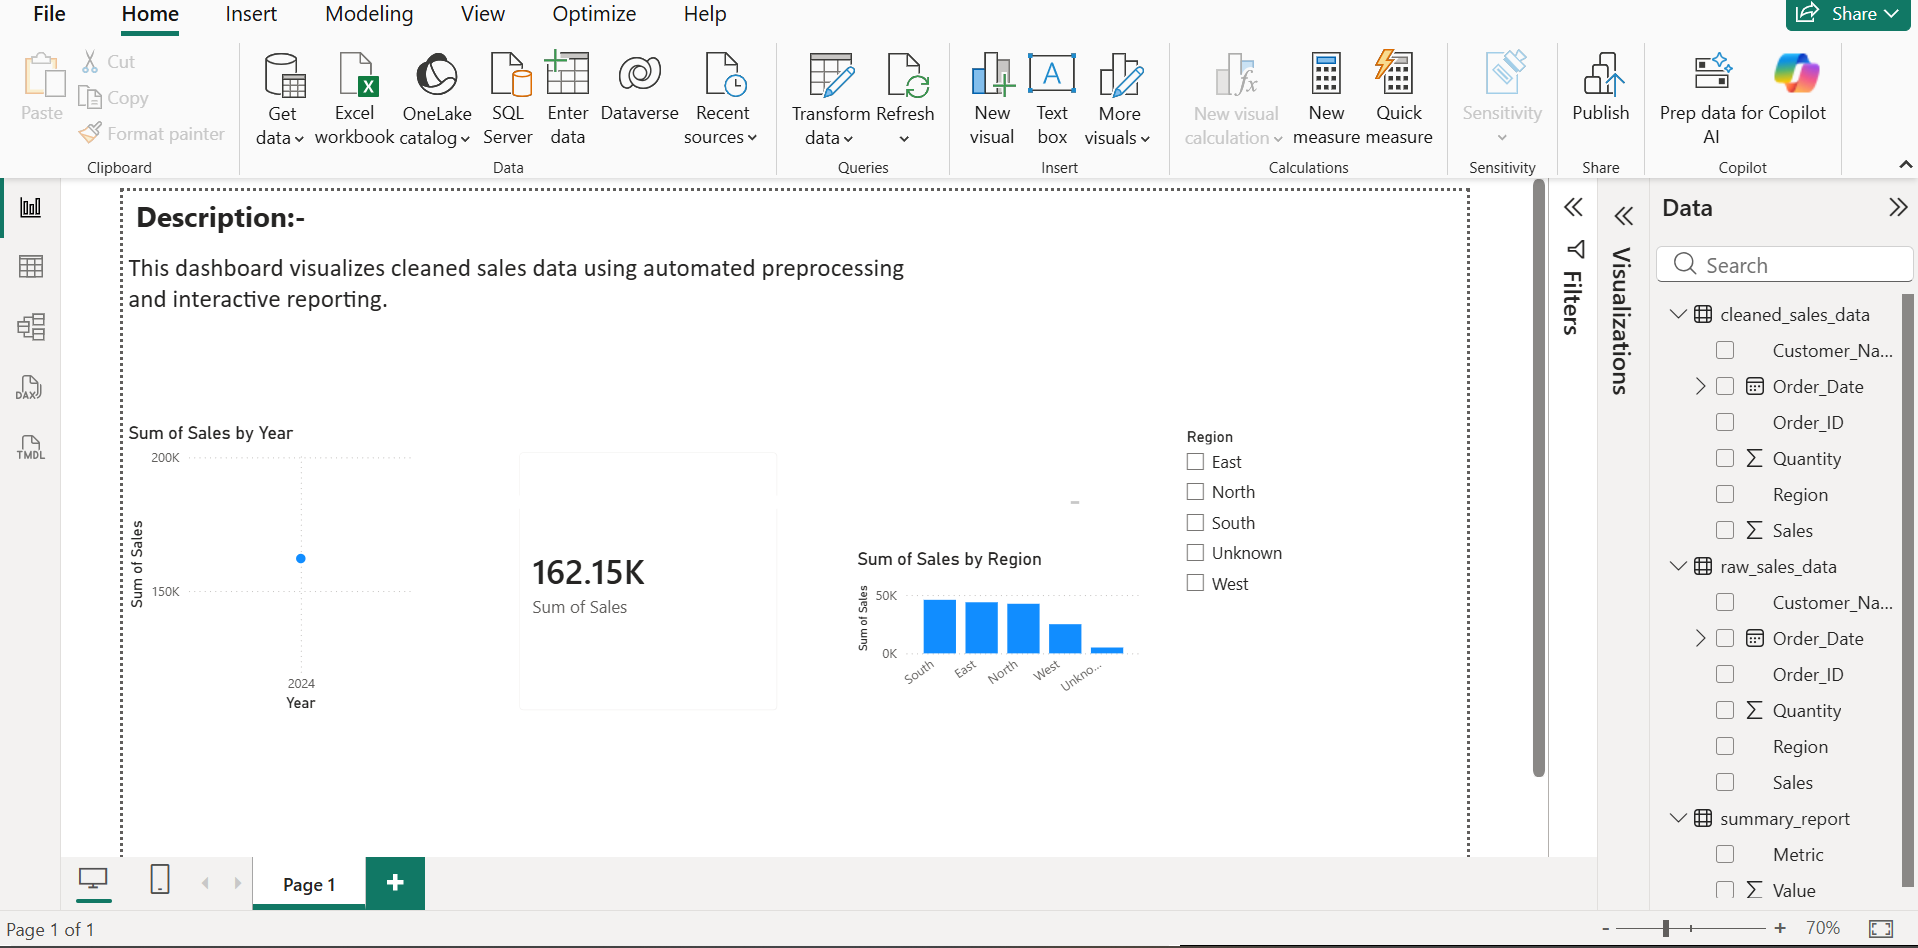

Layout of this report page (visuals, bound fields, positions):
{"tool":"powerbi","page":{"name":"Page 1","canvas":[1280,720],"ordinal":0},"visuals":[{"type":"cardVisual","fields":{"Data":["Sum(cleaned_sales_data.Sales)"]},"box":[360,231.4,280,280],"z":0},{"type":"lineChart","fields":{"Category":["cleaned_sales_data.Order_Date.Variation.Date Hierarchy.Year","cleaned_sales_data.Order_Date.Variation.Date Hierarchy.Quarter","cleaned_sales_data.Order_Date.Variation.Date Hierarchy.Month","cleaned_sales_data.Order_Date.Variation.Date Hierarchy.Day"],"Y":["Sum(cleaned_sales_data.Sales)"]},"box":[0,220,280,280],"z":1000},{"type":"clusteredColumnChart","fields":{"Y":["Sum(cleaned_sales_data.Sales)"],"Category":["cleaned_sales_data.Region"]},"box":[694.3,340,280,150],"z":2000},{"type":"slicer","fields":{"Values":["cleaned_sales_data.Region"]},"box":[1000,220,280,280],"z":3000},{"type":"textbox","box":[300,290,615.7,12.9],"z":4000},{"type":"textbox","box":[0,0,775.7,155.7],"z":4001}]}

Visuals, with their boxes on the page's 1280x720 design canvas (x1, y1, x2, y2). These are canvas units, not pixel positions in the 1918x948 screenshot, which may show the page scaled, cropped or inside an application window:
cardVisual - Sum(cleaned_sales_data.Sales): <box>360,231,640,511</box>
lineChart - cleaned_sales_data.Order_Date.Variation.Date Hierarchy.Year x cleaned_sales_data.Order_Date.Variation.Date Hierarchy.Quarter: <box>0,220,280,500</box>
clusteredColumnChart - Sum(cleaned_sales_data.Sales) x cleaned_sales_data.Region: <box>694,340,974,490</box>
slicer - cleaned_sales_data.Region: <box>1000,220,1280,500</box>
textbox: <box>300,290,916,303</box>
textbox: <box>0,0,776,156</box>
